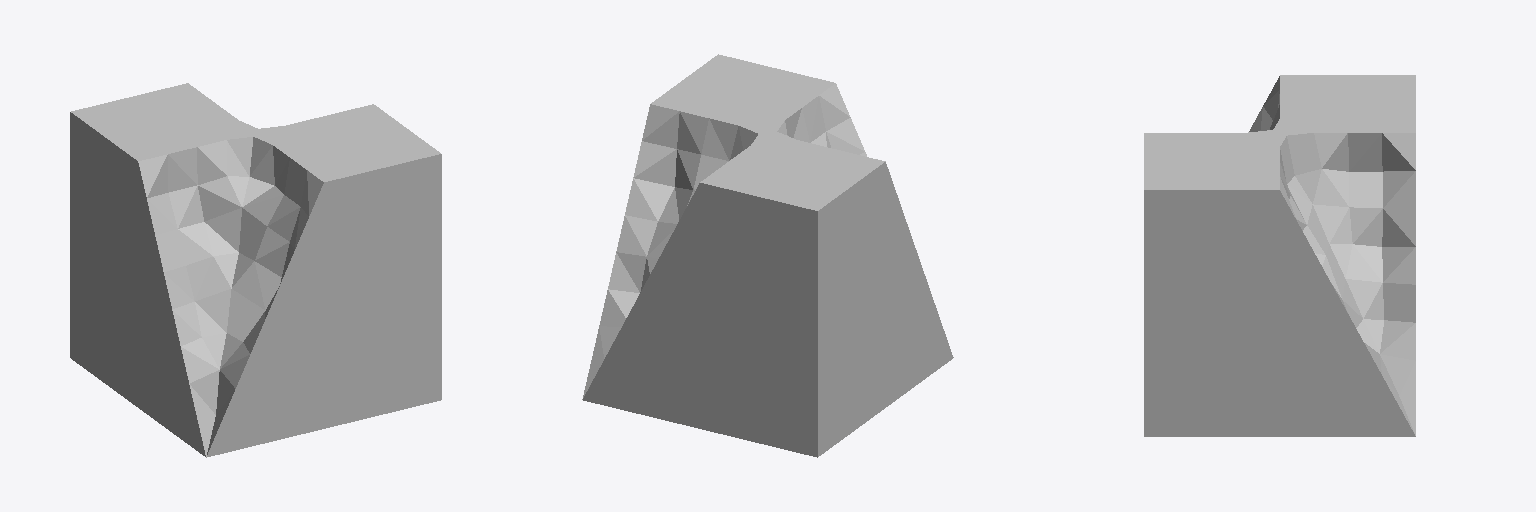
Rendered from diagonal_edge.obj.
3 renders of one model, left to right at view 1: azimuth 30°, elevation 25°; view 2: azimuth 150°, elevation 25°; view 3: azimuth 270°, elevation 25°, orthographic.
Visible parts, largest first — view 1: Cube.014_Cube.021; view 2: Cube.014_Cube.021; view 3: Cube.014_Cube.021.
Boxes of the visible parts, box(x1,y1,x2,y2) form: Cube.014_Cube.021: box(70, 83, 441, 457); Cube.014_Cube.021: box(582, 54, 953, 457); Cube.014_Cube.021: box(1144, 75, 1415, 436).
Bounding box in the file's own units: 1 × 1 × 1.